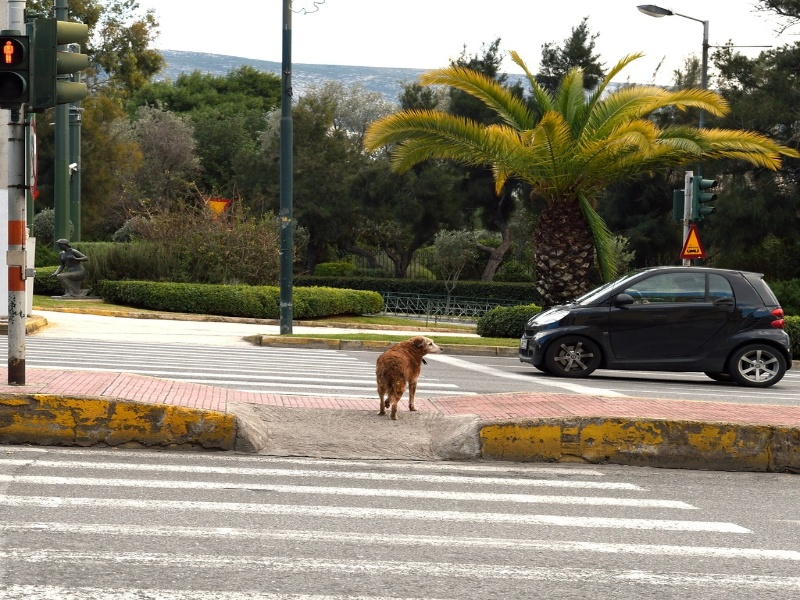pedestrian_crossing_red: (2, 33, 29, 73)
